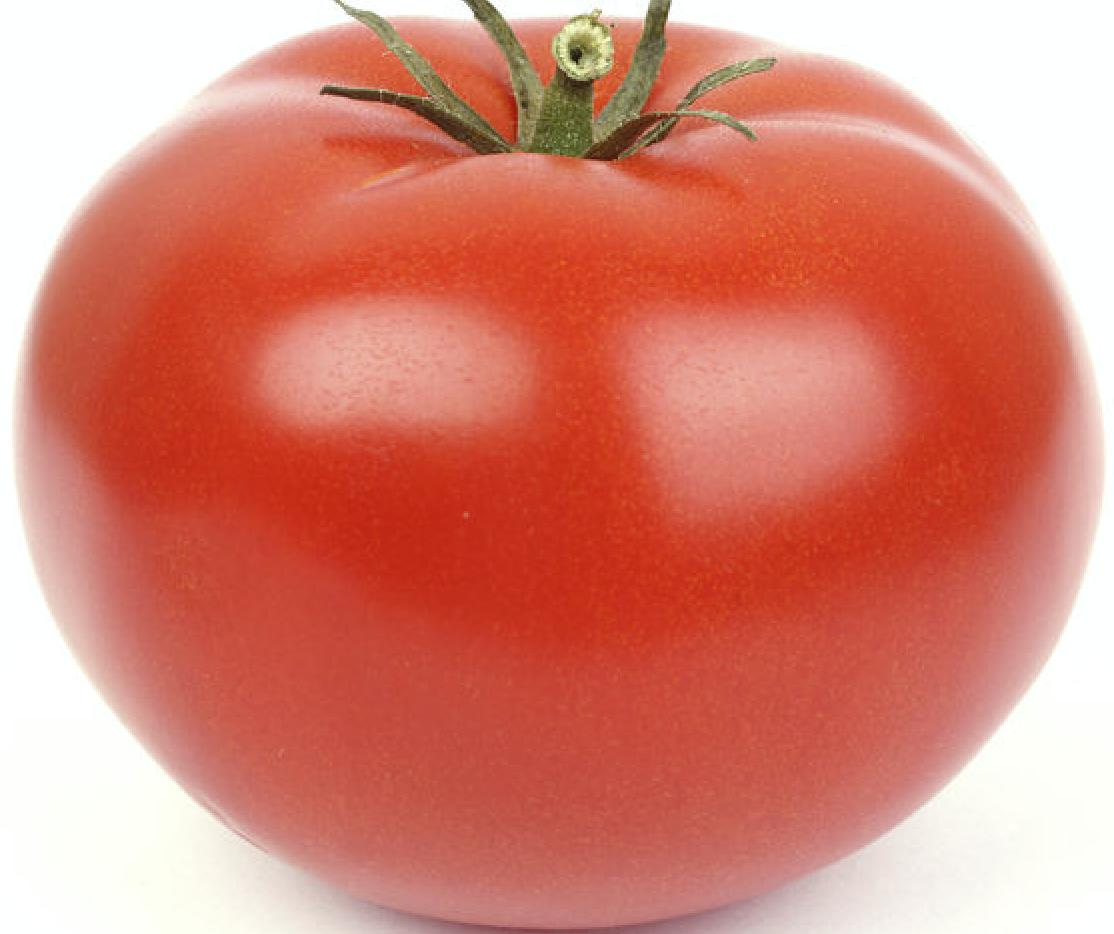tomato: (21, 23, 1088, 918)
